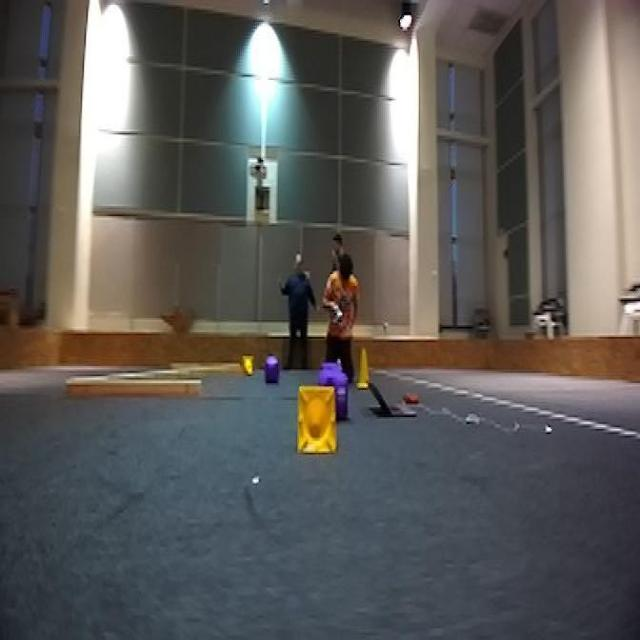frc_cone: (294, 381, 344, 463), (356, 347, 374, 383), (241, 351, 258, 378)
frc_cube: (328, 373, 352, 415), (262, 354, 282, 376)
